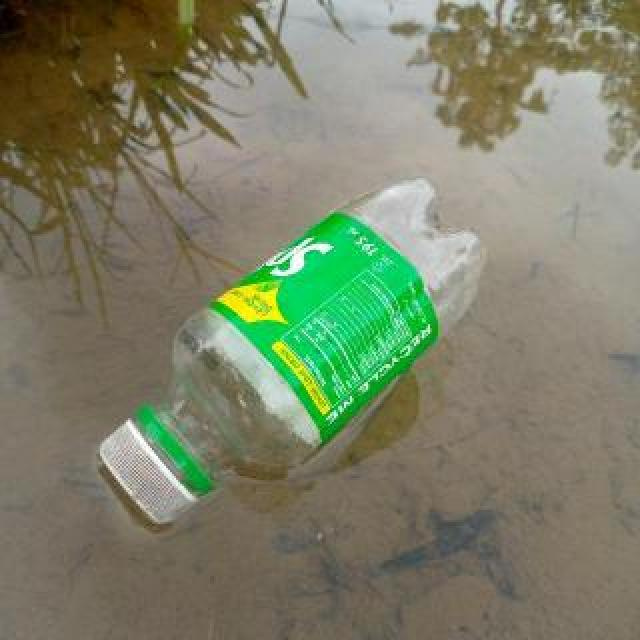Bottle: (91, 176, 494, 532)
